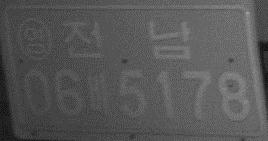0: (23, 68, 53, 117)
1: (149, 69, 177, 117)
5: (116, 69, 146, 118)
6: (53, 68, 83, 117)
7: (181, 69, 212, 120)
8: (216, 70, 250, 122)
바: (85, 69, 113, 118)
영: (15, 16, 52, 61)
전남_D: (61, 18, 192, 60)
